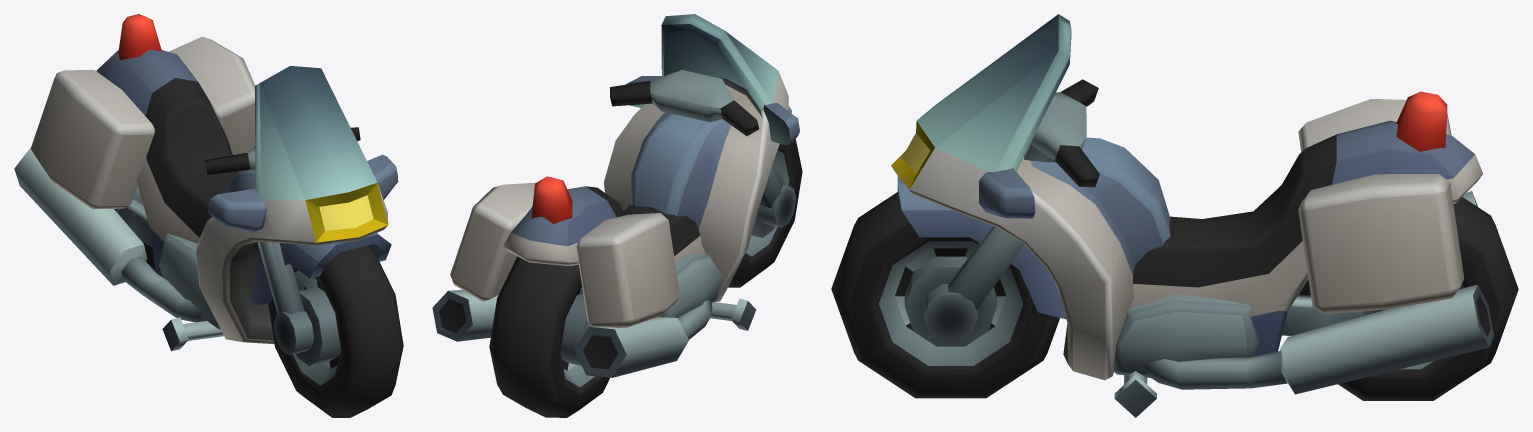
Rendered from police_motorbike.fbx.
3 renders of one model, left to right at view 1: azimuth 30°, elevation 25°; view 2: azimuth 150°, elevation 25°; view 3: azimuth 270°, elevation 25°, orthographic. The views are drawn at different scales.
Parts seen in each view (by area): view 1: motorbike, wheel_motorbike_front; view 2: motorbike, wheel_motorbike_back, wheel_motorbike_front; view 3: motorbike, wheel_motorbike_front, wheel_motorbike_back.
Part boxes in pixels (x1=…): motorbike: x1=14, y1=14, x2=398, y2=355; wheel_motorbike_front: x1=268, y1=245, x2=403, y2=417; motorbike: x1=432, y1=14, x2=799, y2=377; wheel_motorbike_back: x1=489, y1=256, x2=609, y2=417; wheel_motorbike_front: x1=728, y1=139, x2=802, y2=287; motorbike: x1=891, y1=14, x2=1493, y2=417; wheel_motorbike_front: x1=831, y1=192, x2=1059, y2=398; wheel_motorbike_back: x1=1299, y1=197, x2=1518, y2=400.
Bounding box in the file's own units: 104 × 145 × 243.
1 material, 1 textured.
